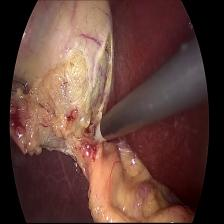Hook: (90, 118, 106, 146)
